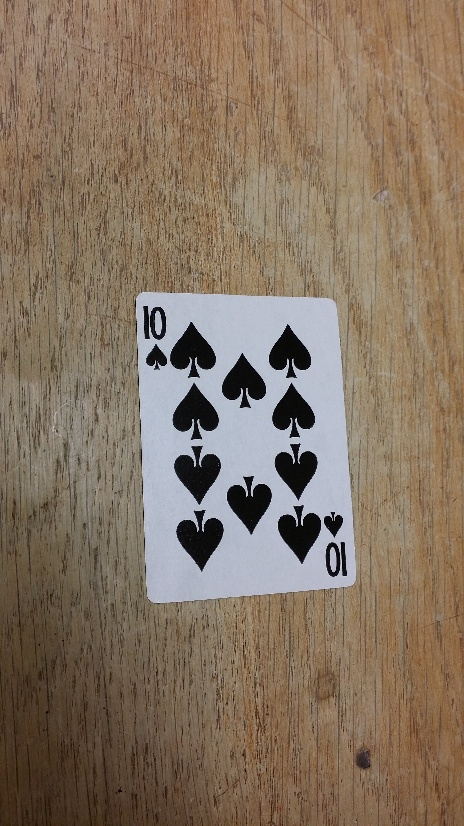S10: (137, 300, 172, 373), (321, 508, 352, 580)
